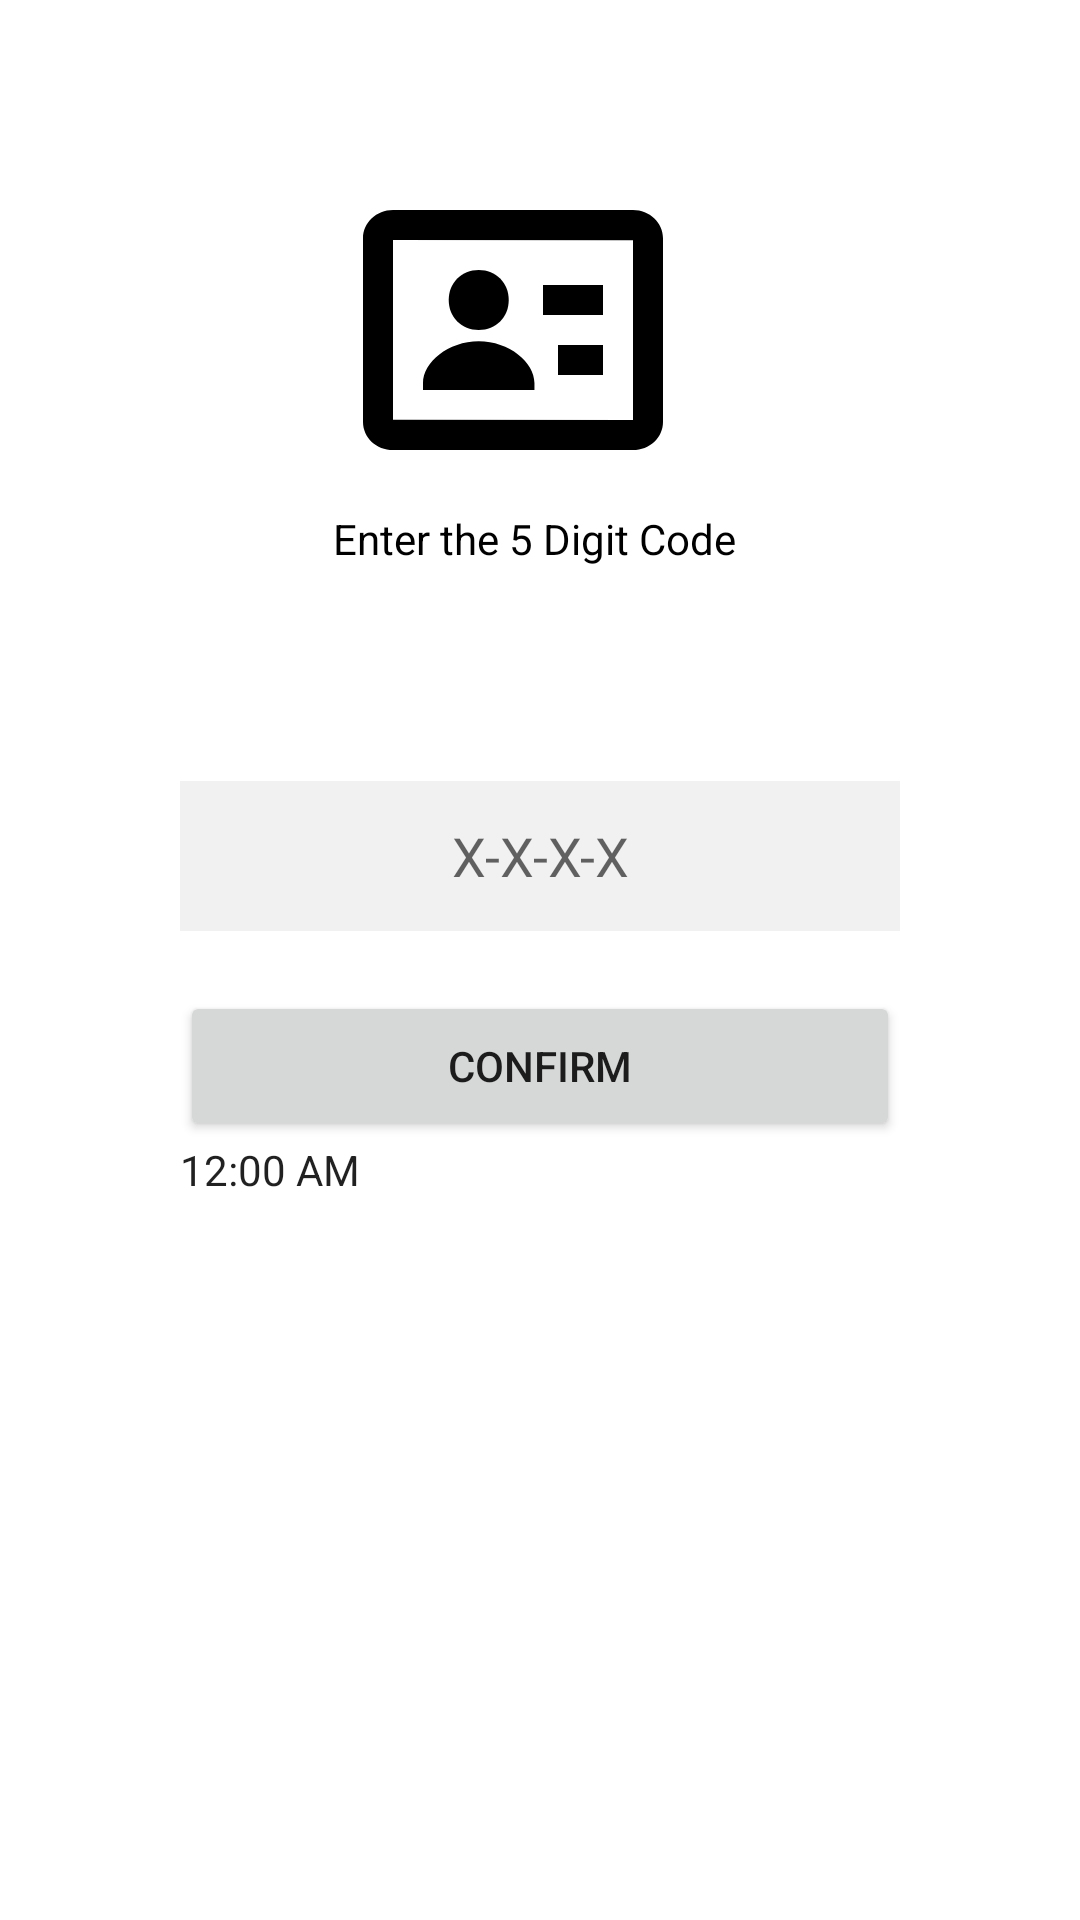

Icon bounding boxes for this 1080px×1920px phone screenshot, format (x1, y1, x2, y2):
id card: (363, 210, 663, 450)
